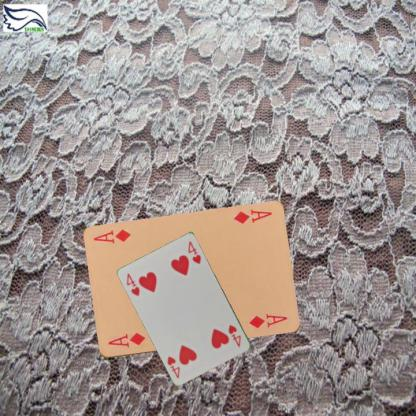4h: (124, 271, 141, 298), (226, 322, 242, 348)
Ad: (105, 330, 147, 349), (230, 207, 272, 226)
